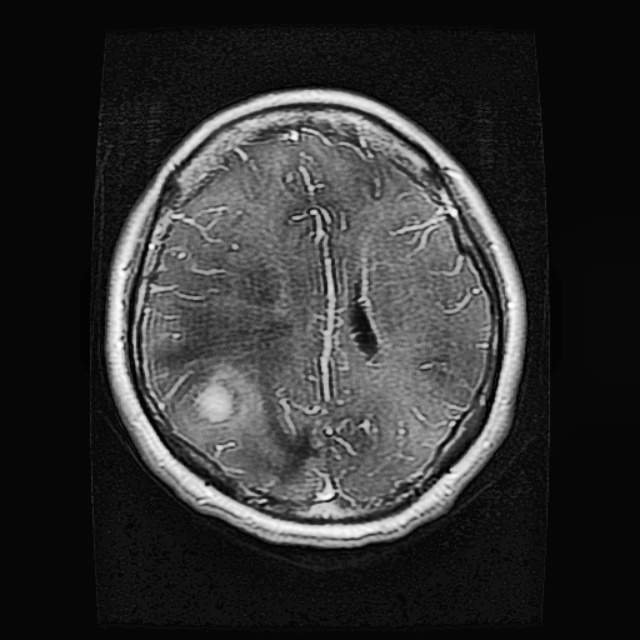Pituitary: (195, 383, 238, 422)
